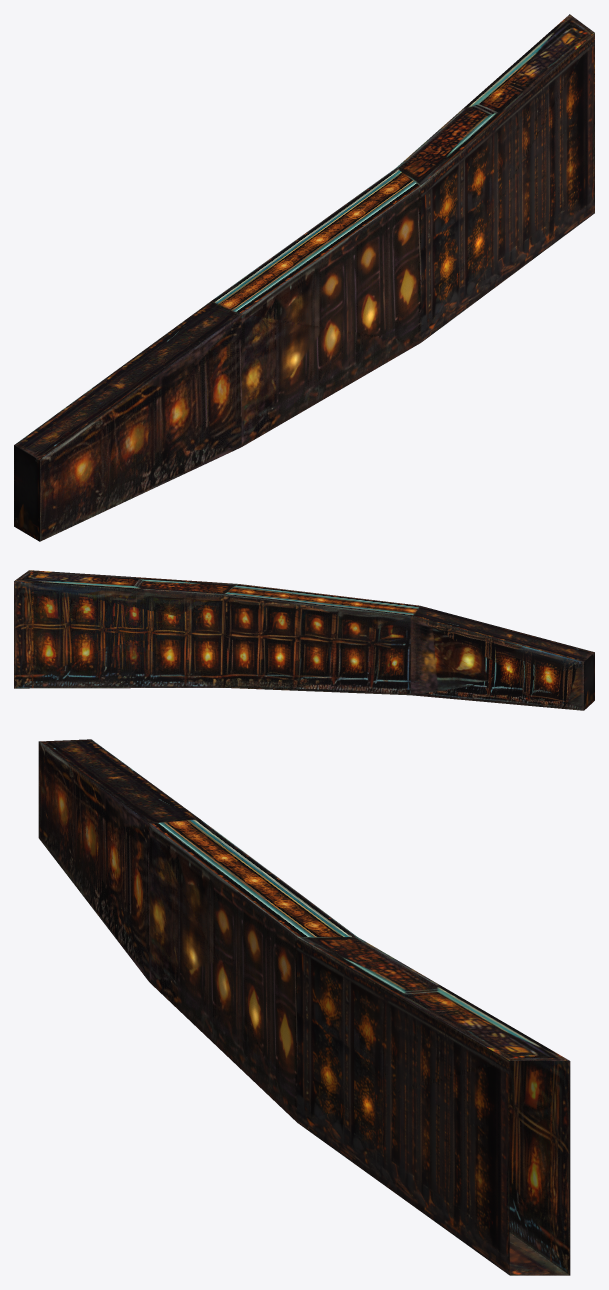
Rendered from wall_up_right_lvl_3.glb.
3 renders of one model, top to bottom at view 1: azimuth 30°, elevation 25°; view 2: azimuth 150°, elevation 25°; view 3: azimuth 270°, elevation 25°, orthographic. The views are drawn at different scales.
Parts seen in each view (by area): view 1: Mesh_0.001; view 2: Mesh_0.001; view 3: Mesh_0.001.
Boxes of the visible parts, x1,y1,x2,y2 form: Mesh_0.001: [14, 14, 594, 541]; Mesh_0.001: [14, 570, 594, 710]; Mesh_0.001: [38, 739, 570, 1275].
Size of the model in its own units: 0.1917 by 0.0437 by 0.0979.
Materials: 1 (1 with a texture image).
